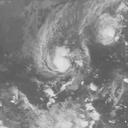cyclone: (46, 44, 72, 74)
